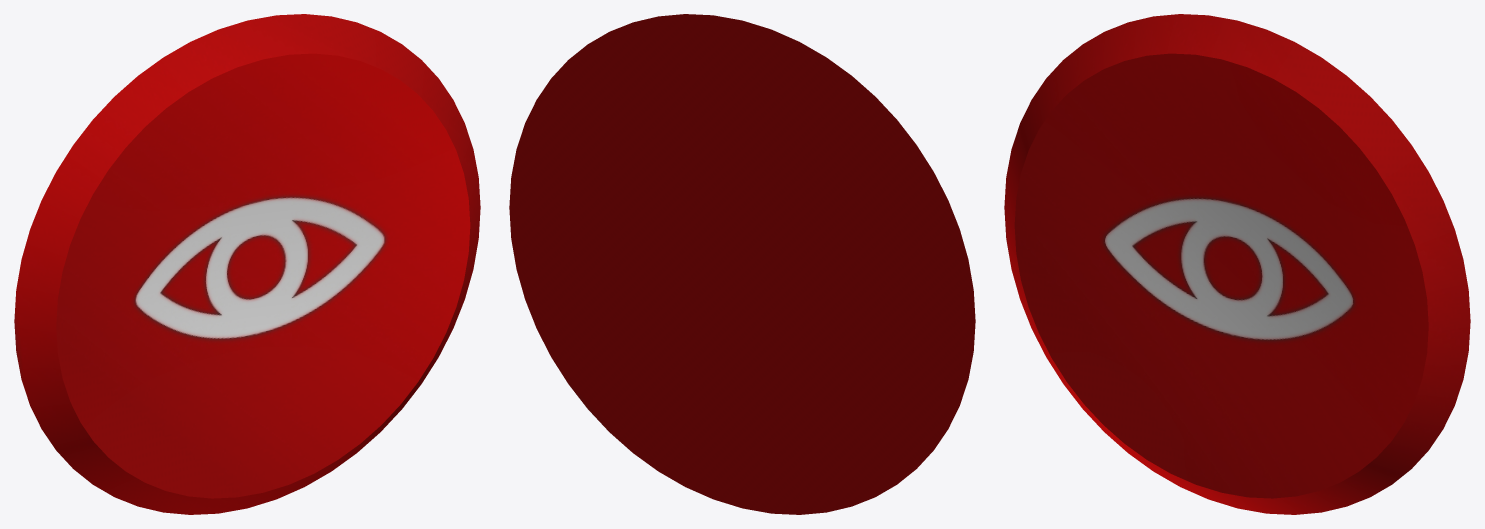
File: boton-vision-desplegado-estatico.gltf
The picture shows the model from 3 angles, left to right: view 1: azimuth 30°, elevation 25°; view 2: azimuth 150°, elevation 25°; view 3: azimuth 330°, elevation 25°; orthographic projection.
Parts seen in each view (by area): view 1: Circle006; view 2: Circle006; view 3: Circle006.
Part boxes in pixels (box(x1,y1,x2,y2)): Circle006: box(14, 14, 480, 514); Circle006: box(509, 14, 975, 514); Circle006: box(1004, 14, 1470, 514).
Bounding box in the file's own units: 0.0508 × 0.0508 × 0.00299.
Materials: 1 (1 with a texture image).
